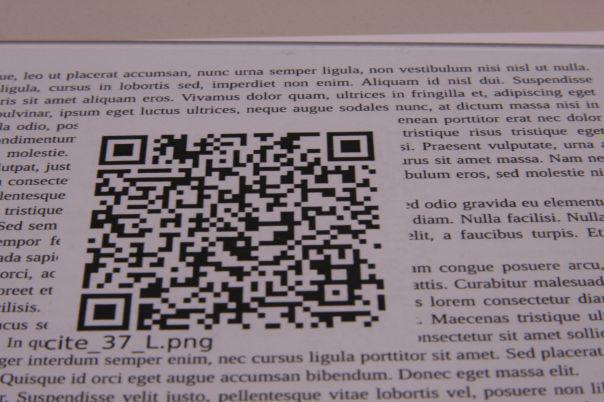qr_code: (77, 131, 386, 331)
